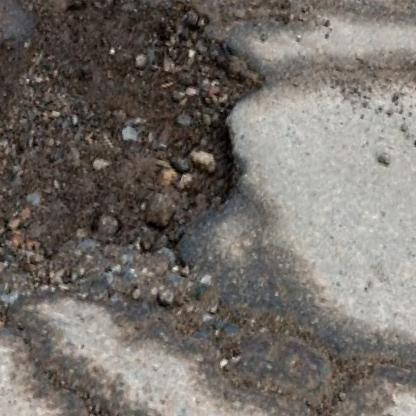pothole: (0, 0, 286, 324)
